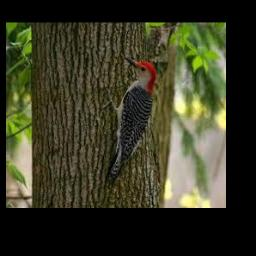Woodpecker: (102, 56, 156, 180)
